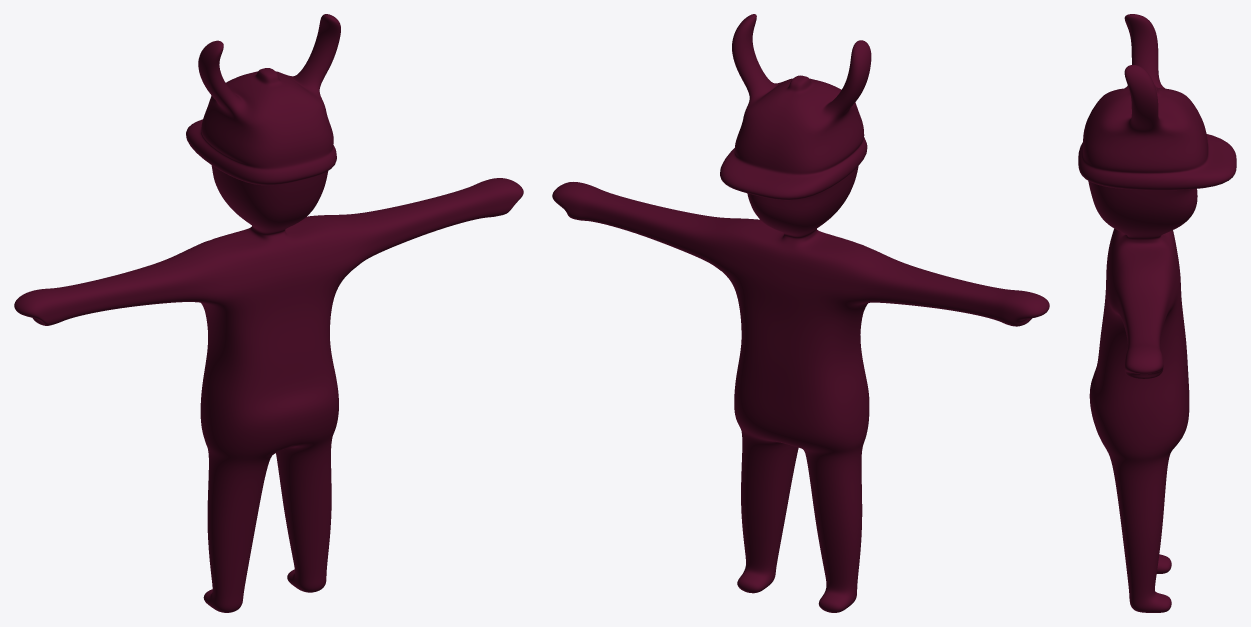
Rendered from enemy.fbx.
3 views of the same model, side by side, from view 1: azimuth 30°, elevation 25°; view 2: azimuth 150°, elevation 25°; view 3: azimuth 270°, elevation 25° (orthographic). The views are drawn at different scales.
Visible parts, largest first — view 1: Subdivision_Surface_1; view 2: Subdivision_Surface_1; view 3: Subdivision_Surface_1.
Boxes of the visible parts, x1=… form: Subdivision_Surface_1: x1=14, y1=14, x2=523, y2=612; Subdivision_Surface_1: x1=552, y1=14, x2=1049, y2=612; Subdivision_Surface_1: x1=1078, y1=14, x2=1236, y2=612.
Bounding box in the file's own units: 347 × 380 × 98.93.
